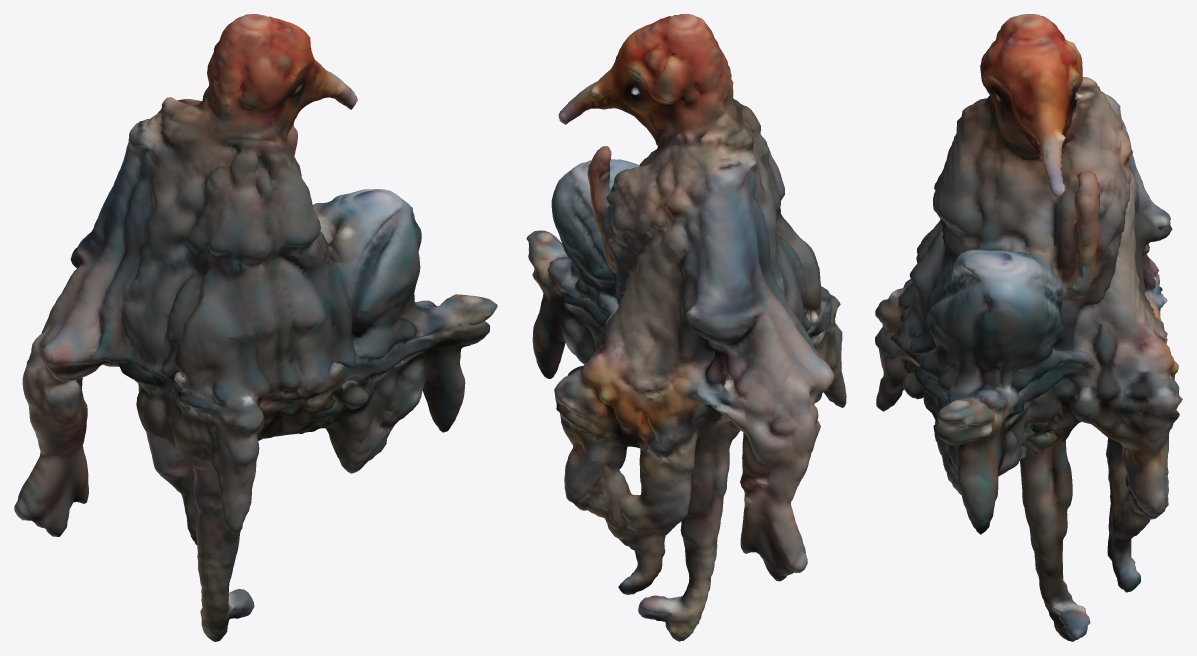
Rendered from finished-chimera-high.glb.
The picture shows the model from 3 angles, left to right: view 1: azimuth 30°, elevation 25°; view 2: azimuth 150°, elevation 25°; view 3: azimuth 270°, elevation 25°; orthographic projection. The views are drawn at different scales.
Parts seen in each view (by area): view 1: tmpsdqe2cla; view 2: tmpsdqe2cla; view 3: tmpsdqe2cla.
Part boxes in pixels (x1=…): tmpsdqe2cla: x1=14, y1=14, x2=497, y2=641; tmpsdqe2cla: x1=526, y1=14, x2=846, y2=641; tmpsdqe2cla: x1=875, y1=14, x2=1182, y2=641.
Size of the model in its own units: 0.6199 by 0.979 by 0.432.
